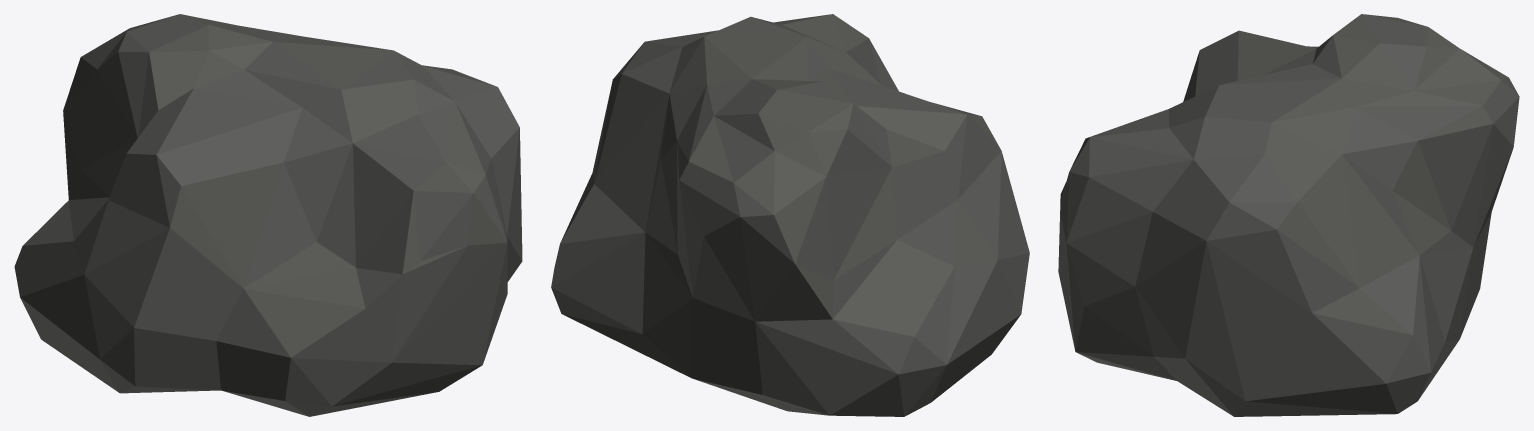
The model's file is SM_Envr_Nature_Rock_15.fbx.
3 views of the same model, side by side, from view 1: azimuth 30°, elevation 25°; view 2: azimuth 150°, elevation 25°; view 3: azimuth 270°, elevation 25° (orthographic). The views are drawn at different scales.
Visible parts, largest first — view 1: SM_Envr_Nature_Rock_15; view 2: SM_Envr_Nature_Rock_15; view 3: SM_Envr_Nature_Rock_15.
Boxes of the visible parts, left/top/right/bottom form: SM_Envr_Nature_Rock_15: left=14, top=14, right=522, bottom=416; SM_Envr_Nature_Rock_15: left=551, top=14, right=1029, bottom=416; SM_Envr_Nature_Rock_15: left=1058, top=14, right=1519, bottom=416.
Bounding box in the file's own units: 341 × 241 × 340.
